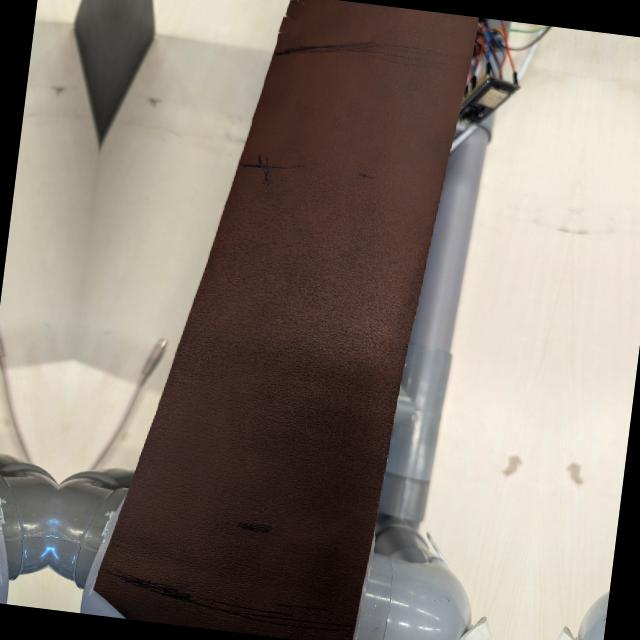edge_damage: (270, 0, 308, 41)
